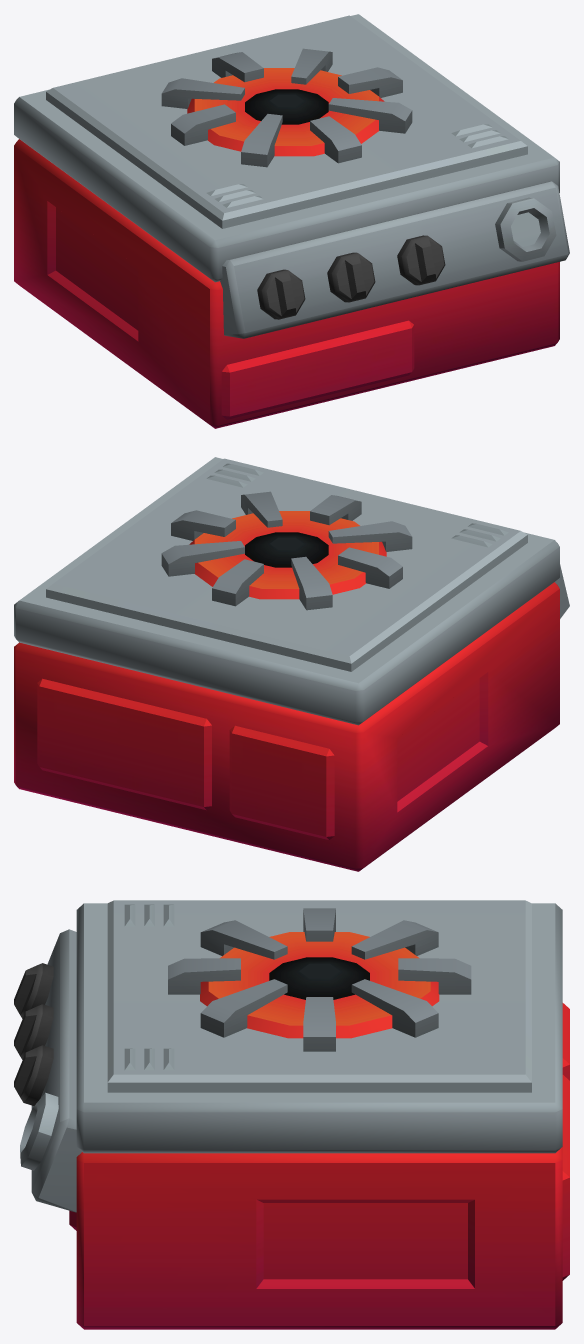
File: stove.glb
3 renders of one model, top to bottom at view 1: azimuth 30°, elevation 25°; view 2: azimuth 150°, elevation 25°; view 3: azimuth 270°, elevation 25°, orthographic. The views are drawn at different scales.
Visible parts, largest first — view 1: stove_single; view 2: stove_single; view 3: stove_single.
Boxes of the visible parts, box(x1,y1,x2,y2) form: stove_single: box(14, 14, 569, 428); stove_single: box(14, 457, 569, 871); stove_single: box(14, 900, 569, 1329).
Size of the model in its own units: 1.49 by 0.9001 by 1.7.
1 material, 1 textured.
